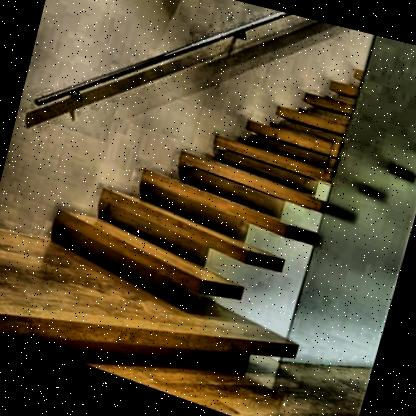stair: (0, 0, 401, 369)
